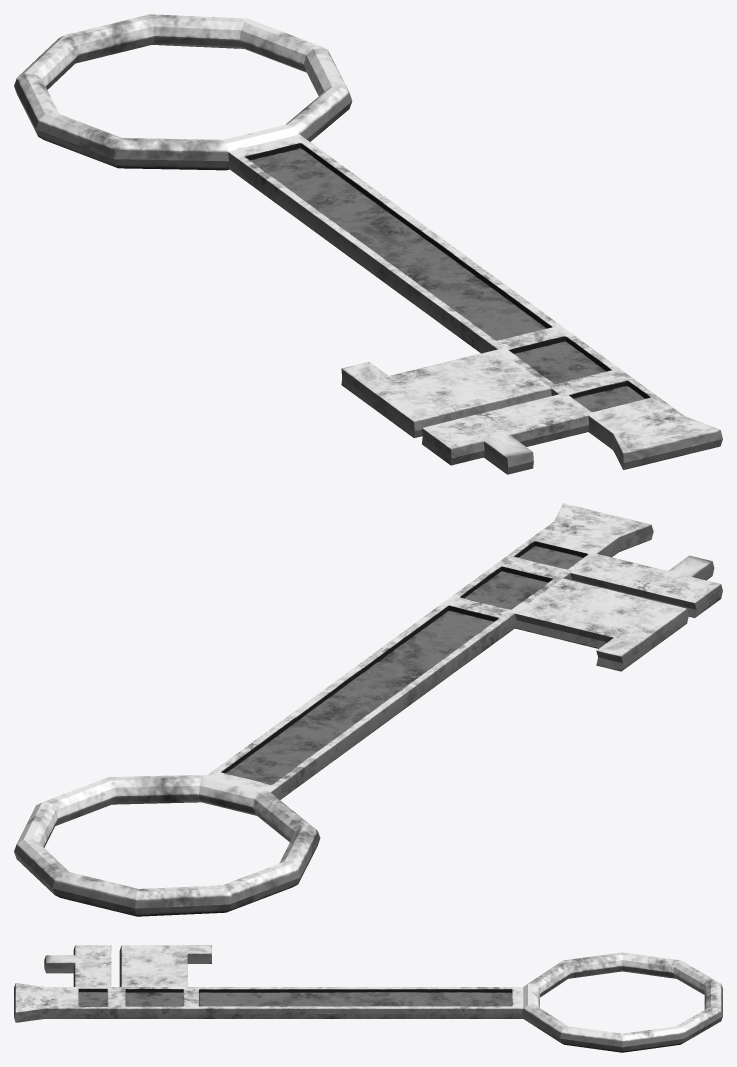
Rendered from KeyA.fbx.
3 renders of one model, top to bottom at view 1: azimuth 30°, elevation 25°; view 2: azimuth 150°, elevation 25°; view 3: azimuth 270°, elevation 25°, orthographic. The views are drawn at different scales.
Parts seen in each view (by area): view 1: pTorus1; view 2: pTorus1; view 3: pTorus1.
Part boxes in pixels (left/top/right/bottom): pTorus1: left=14, top=14, right=722, bottom=474; pTorus1: left=14, top=503, right=722, bottom=916; pTorus1: left=14, top=945, right=722, bottom=1052.
Size of the model in its own units: 9.3 by 0.7407 by 28.69.
Materials: 1 (1 with a texture image).
